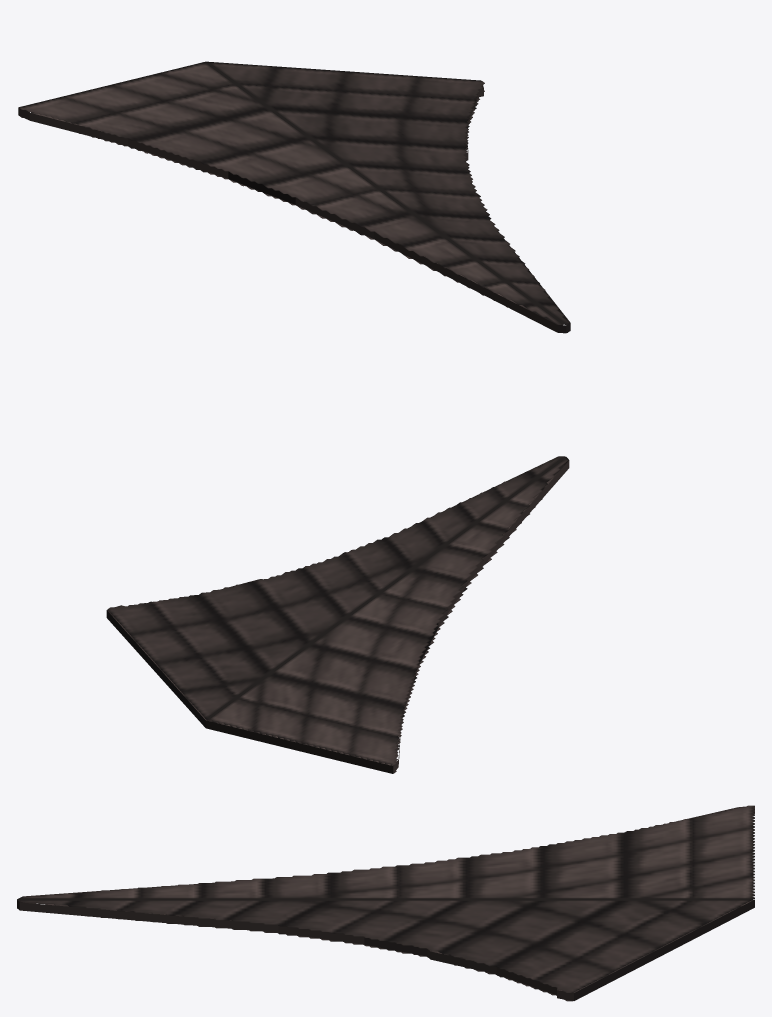
File: pz_native_location_community_church_small_01_203_frame.obj
3 views of the same model, one above another, from view 1: azimuth 30°, elevation 25°; view 2: azimuth 150°, elevation 25°; view 3: azimuth 270°, elevation 25° (orthographic). The views are drawn at different scales.
Parts seen in each view (by area): view 1: pz_native_location_community_church_small_01_203_frame; view 2: pz_native_location_community_church_small_01_203_frame; view 3: pz_native_location_community_church_small_01_203_frame.
Part boxes in pixels (x1=…): pz_native_location_community_church_small_01_203_frame: x1=18, y1=61, x2=570, y2=333; pz_native_location_community_church_small_01_203_frame: x1=106, y1=456, x2=569, y2=773; pz_native_location_community_church_small_01_203_frame: x1=17, y1=805, x2=754, y2=1001.
Bounding box in the file's own units: 2 × 0.04 × 3.3.
1 material, 1 textured.
